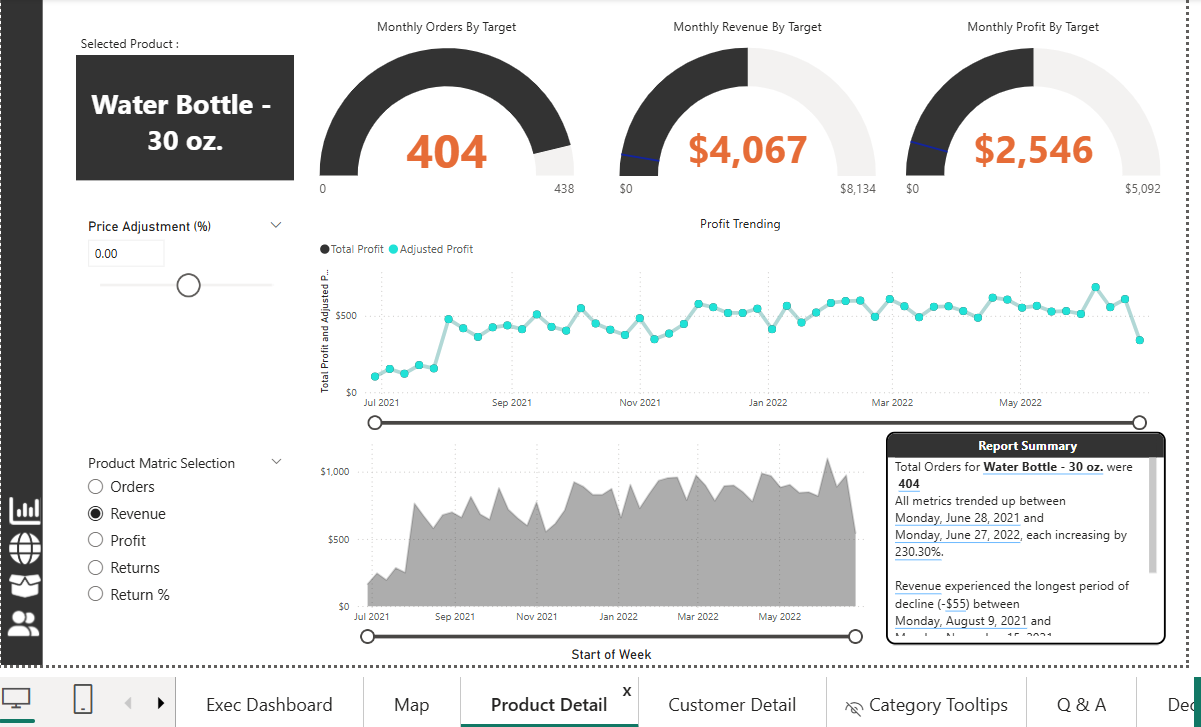

The page's visual inventory and layout, read from the dashboard file:
{"tool":"powerbi","page":{"name":"Product Detail","canvas":[1280,720],"ordinal":2},"visuals":[{"type":"shape","box":[0,0,45,720],"z":0},{"type":"actionButton","box":[3.5,612.8,44.2,42],"z":0,"group":"g1"},{"type":"gauge","title":"Monthly Orders By Target","fields":{"Y":["Measure Table.Total Orders"],"MaxValue":["Measure Table.Order Target"]},"box":[338.9,20.4,285.2,213],"z":1000},{"type":"actionButton","box":[3.5,532,44.2,42],"z":1000,"group":"g1"},{"type":"gauge","title":"Monthly Revenue By Target","fields":{"Y":["Measure Table.Total Revenue"],"TargetValue":["Measure Table.Order Target"]},"box":[663,20.4,287,213],"z":2000},{"type":"actionButton","box":[3.5,572.4,44.2,42],"z":2000,"group":"g1"},{"type":"gauge","title":"Monthly Profit By Target","fields":{"Y":["Measure Table.Total Profit"],"TargetValue":["Measure Table.Order Target"]},"box":[972.2,20.4,285.2,213],"z":3000},{"type":"actionButton","box":[2.5,653.2,46.2,42],"z":3000,"group":"g1"},{"type":"lineChart","title":"Profit Trending","fields":{"Category":["Calendar Lookup.Date Hierarchy.Start of Year","Calendar Lookup.Date Hierarchy.Start of Month","Calendar Lookup.Date Hierarchy.Start of Week","Calendar Lookup.Date Hierarchy.Date"],"Y":["Measure Table.Total Profit","Measure Table.Adjusted Profit"]},"box":[338.2,232.9,919.5,253.2],"z":4000},{"type":"areaChart","title":"Returns Trending","fields":{"Y":["Measure Table.Total Revenue"],"Category":["Calendar Lookup.Date Hierarchy.Start of Year","Calendar Lookup.Date Hierarchy.Start of Month","Calendar Lookup.Date Hierarchy.Start of Week","Calendar Lookup.Date Hierarchy.Date"]},"box":[338.3,468.1,612.8,253.2],"z":5000},{"type":"card","fields":{"Values":["Min(Product Lookup.ProductName)"]},"box":[81.5,61.1,235.2,135.2],"z":6000},{"type":"textbox","box":[81.5,33.3,216.7,27.8],"z":7000},{"type":"group","id":"g1","title":"Navigation Buttons","box":[2.5,532,46.2,163.2],"z":8000},{"type":"slicer","fields":{"Values":["Price Adjustment (%).Price Adjustment (%)"]},"box":[81,233.2,234.8,152.2],"z":9000},{"type":"slicer","fields":{"Values":["Product Matric Selection.Product Matric Selection"]},"box":[81,486.1,234.9,188.4],"z":10000},{"type":"textbox","title":"Report Summary","box":[956,468,302,230],"z":11000}]}

Visuals, with their boxes on the page's 1280x720 design canvas (x1, y1, x2, y2). These are canvas units, not pixel positions in the 1201x727 screenshot, which may show the page scaled, cropped or inside an application window:
shape: {"x1": 0, "y1": 0, "x2": 45, "y2": 720}
actionButton: {"x1": 4, "y1": 613, "x2": 48, "y2": 655}
"Monthly Orders By Target" gauge: {"x1": 339, "y1": 20, "x2": 624, "y2": 233}
actionButton: {"x1": 4, "y1": 532, "x2": 48, "y2": 574}
"Monthly Revenue By Target" gauge: {"x1": 663, "y1": 20, "x2": 950, "y2": 233}
actionButton: {"x1": 4, "y1": 572, "x2": 48, "y2": 614}
"Monthly Profit By Target" gauge: {"x1": 972, "y1": 20, "x2": 1257, "y2": 233}
actionButton: {"x1": 2, "y1": 653, "x2": 49, "y2": 695}
"Profit Trending" lineChart: {"x1": 338, "y1": 233, "x2": 1258, "y2": 486}
"Returns Trending" areaChart: {"x1": 338, "y1": 468, "x2": 951, "y2": 721}
card - Min(Product Lookup.ProductName): {"x1": 82, "y1": 61, "x2": 317, "y2": 196}
textbox: {"x1": 82, "y1": 33, "x2": 298, "y2": 61}
"Navigation Buttons" group: {"x1": 2, "y1": 532, "x2": 49, "y2": 695}
slicer - Price Adjustment (%).Price Adjustment (%): {"x1": 81, "y1": 233, "x2": 316, "y2": 385}
slicer - Product Matric Selection.Product Matric Selection: {"x1": 81, "y1": 486, "x2": 316, "y2": 674}
"Report Summary" textbox: {"x1": 956, "y1": 468, "x2": 1258, "y2": 698}
